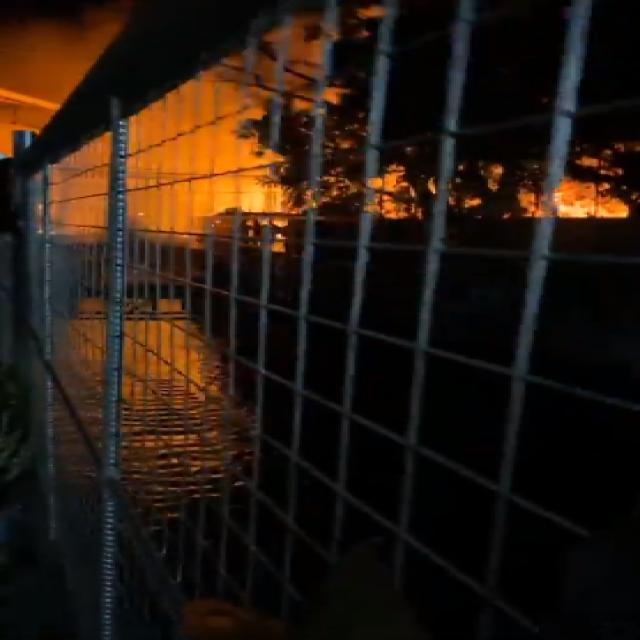Fire: (74, 173, 602, 224)
